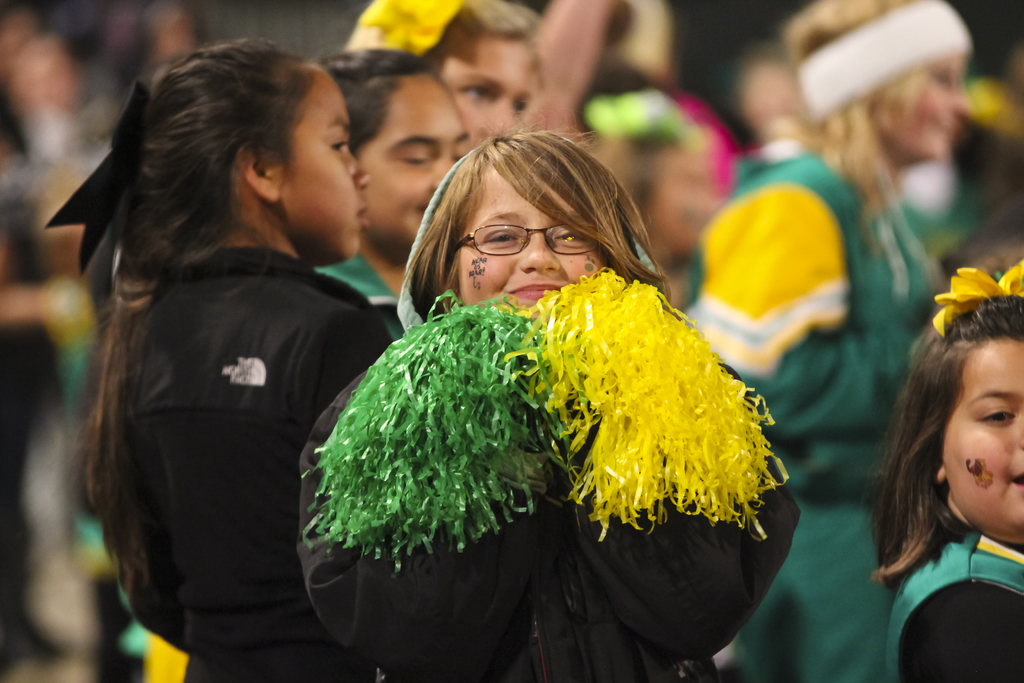Person: (44, 0, 1024, 682)
